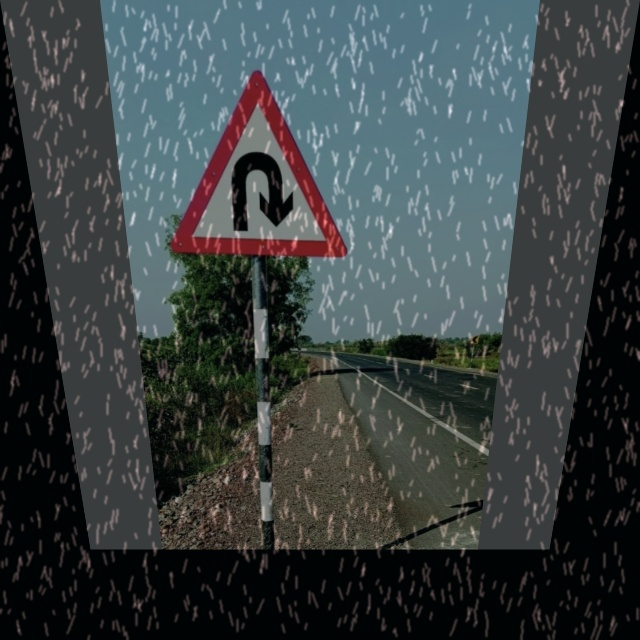Right_Hair_Pin_Bend: (169, 69, 347, 256)
